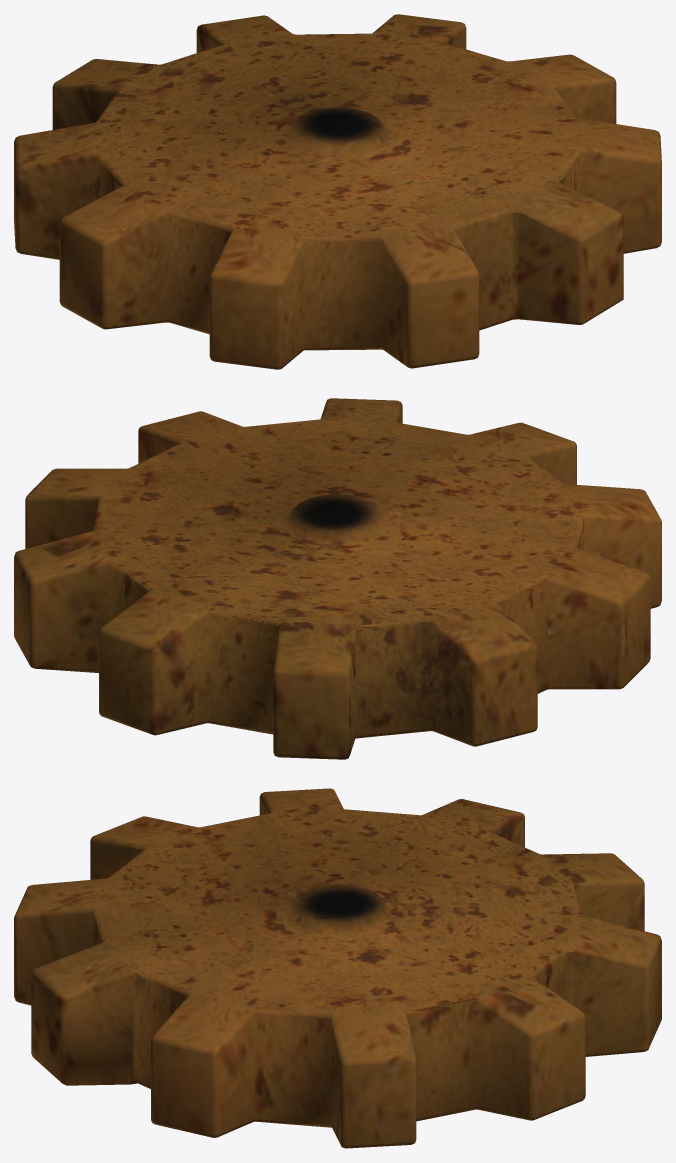
File: Steam_Disc.fbx
3 renders of one model, top to bottom at view 1: azimuth 30°, elevation 25°; view 2: azimuth 150°, elevation 25°; view 3: azimuth 270°, elevation 25°, orthographic.
Parts seen in each view (by area): view 1: Steam_Disc; view 2: Steam_Disc; view 3: Steam_Disc.
Part boxes in pixels (<box>): Steam_Disc: <box>14,14,661,369</box>; Steam_Disc: <box>14,398,661,759</box>; Steam_Disc: <box>14,788,661,1148</box>.
Size of the model in its own units: 5.51 by 1.21 by 5.49.
